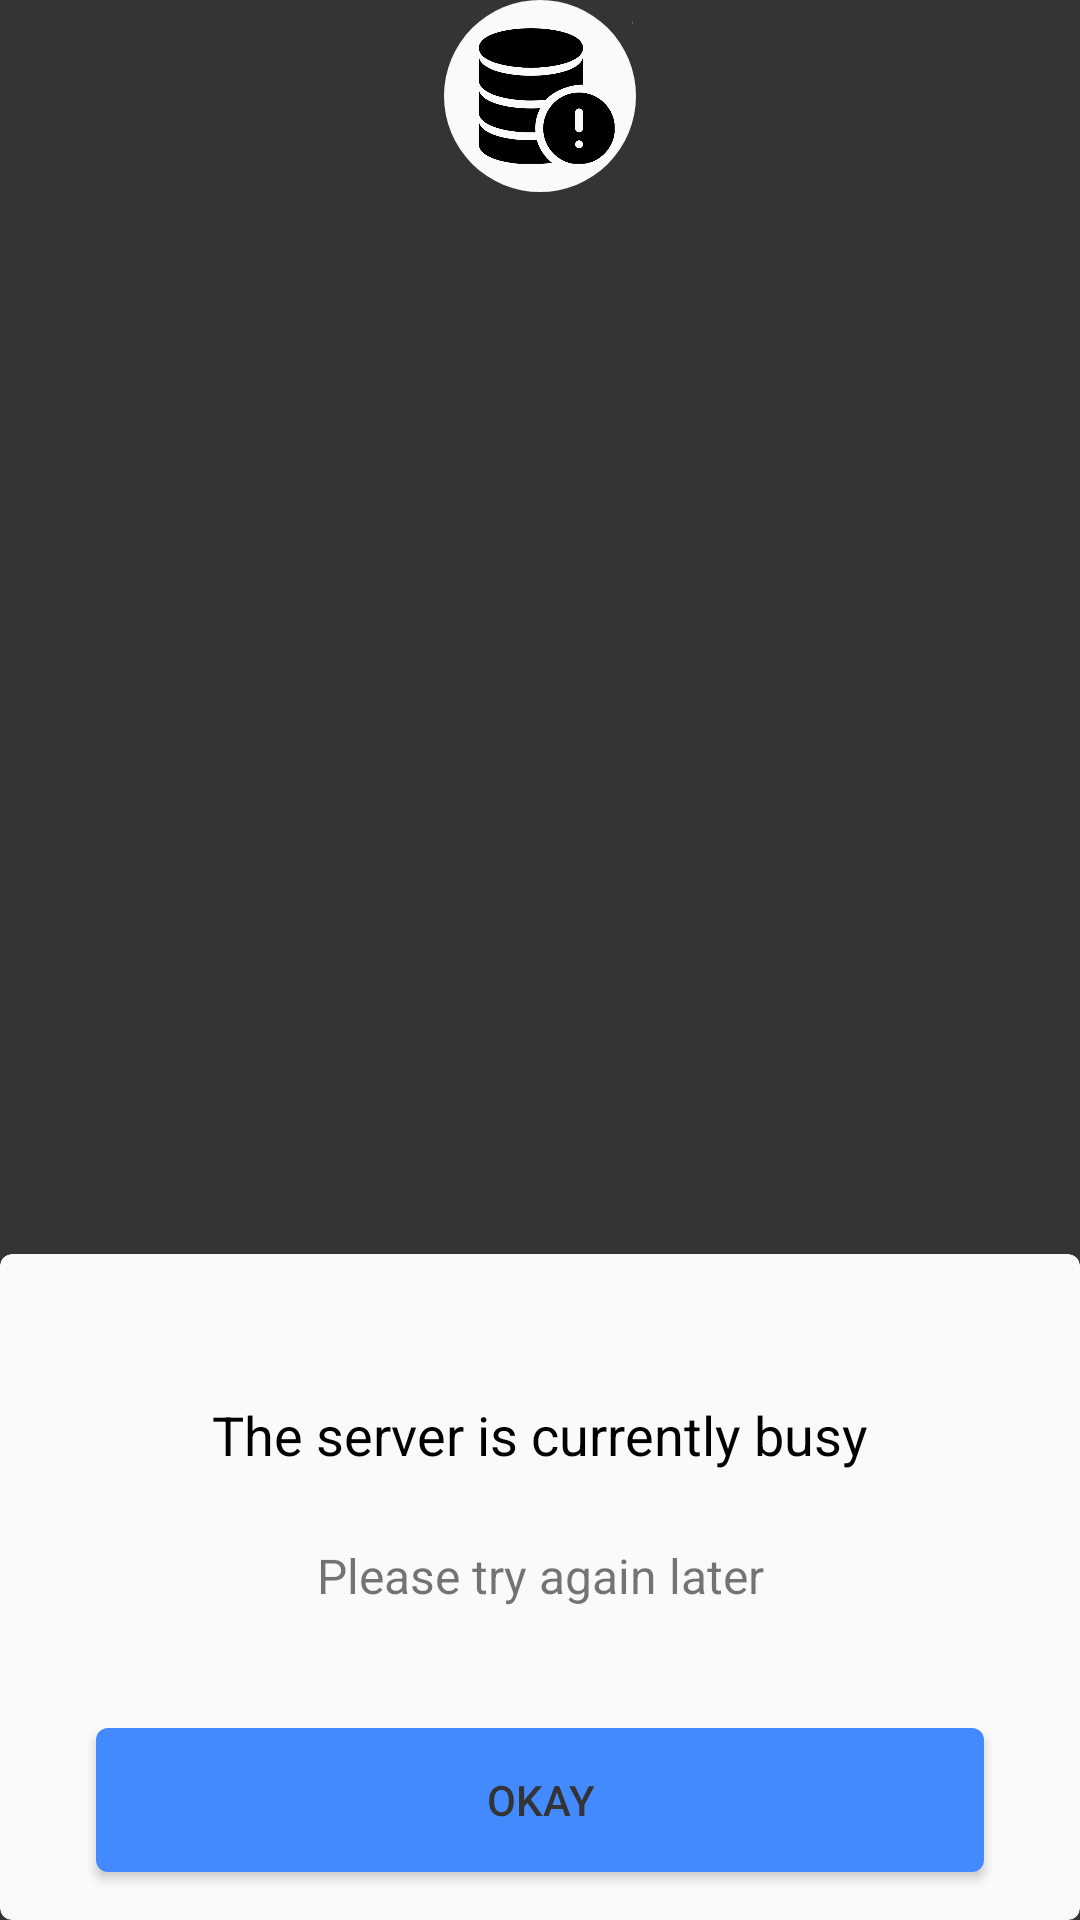

Screen size 1080px×1920px. Icon name, then its center in pixels as (x,y):
database: (540,96)
